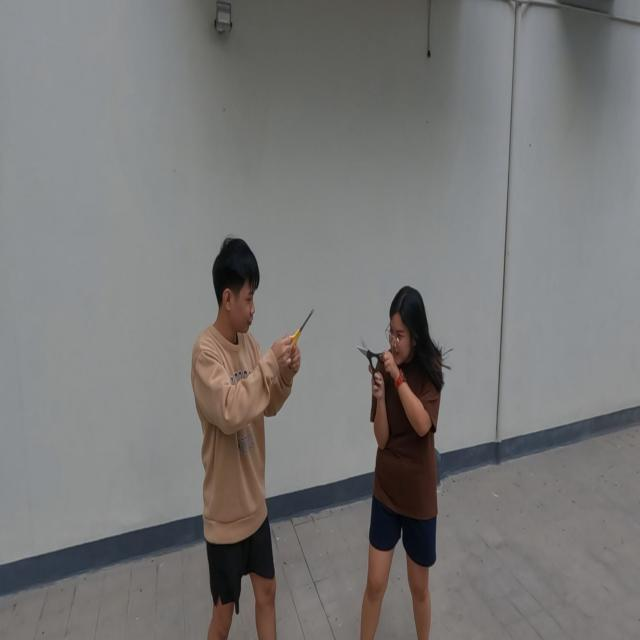scissor: (357, 336, 384, 387), (288, 306, 314, 355)
